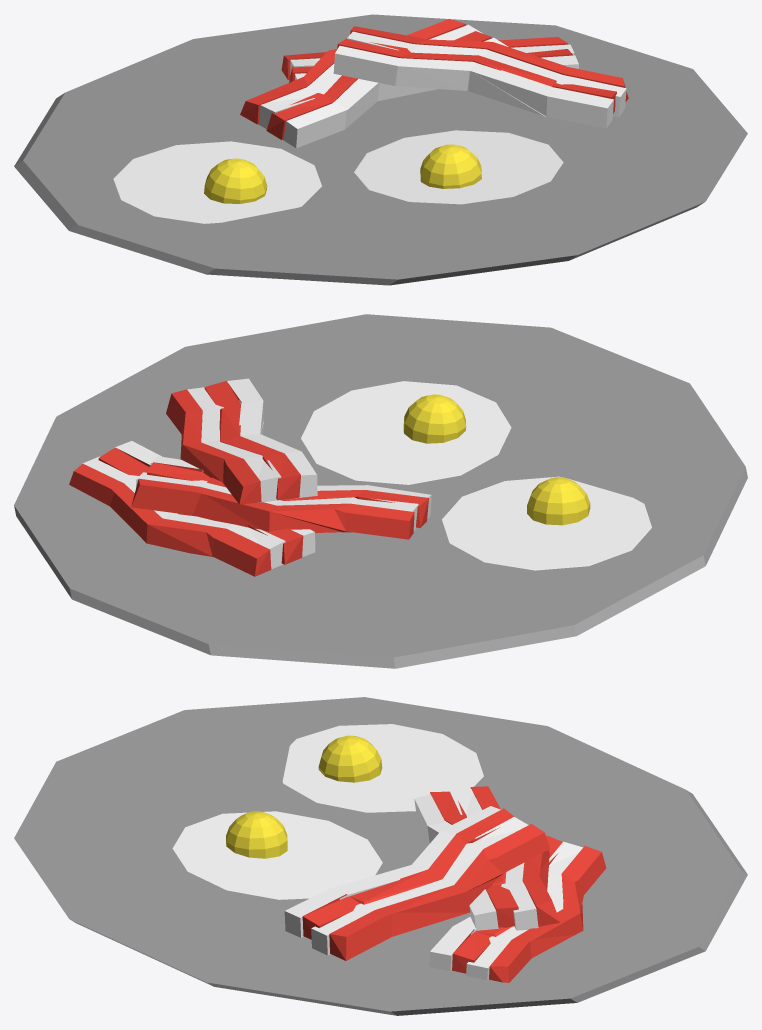
3 renders of one model, top to bottom at view 1: azimuth 30°, elevation 25°; view 2: azimuth 150°, elevation 25°; view 3: azimuth 270°, elevation 25°, orthographic.
Parts seen in each view (by area): view 1: mesh_856596822, group_1262107349, group_204182218, group_1852589185, group_176136571, group_1025195335; view 2: mesh_856596822, group_1852589185, group_204182218, group_176136571, group_1262107349, group_1025195335; view 3: mesh_856596822, group_1262107349, group_1852589185, group_204182218, group_1025195335, group_176136571.
Part boxes in pixels (<box>): mesh_856596822: <box>14,14,747,285</box>; group_1262107349: <box>333,26,628,128</box>; group_204182218: <box>113,141,321,223</box>; group_1852589185: <box>354,130,563,204</box>; group_176136571: <box>240,19,508,148</box>; group_1025195335: <box>281,37,578,82</box>; mesh_856596822: <box>14,314,747,668</box>; group_1852589185: <box>301,381,511,484</box>; group_204182218: <box>442,476,651,570</box>; group_176136571: <box>131,456,431,539</box>; group_1262107349: <box>166,378,317,504</box>; group_1025195335: <box>69,441,315,576</box>; mesh_856596822: <box>14,697,747,1015</box>; group_1262107349: <box>284,806,549,960</box>; group_1852589185: <box>172,811,382,899</box>; group_204182218: <box>282,724,483,812</box>; group_1025195335: <box>429,835,606,982</box>; group_176136571: <box>414,786,560,930</box>.
Size of the model in its own units: 501 by 61.83 by 500.
